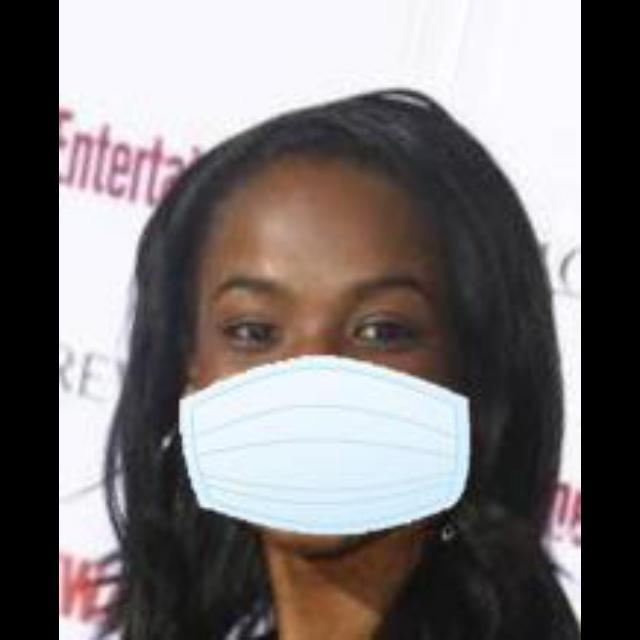suspicion: (161, 109, 504, 528)
